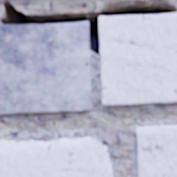brick: (0, 22, 91, 114), (99, 14, 176, 104), (0, 137, 112, 176), (136, 125, 176, 176)
crack: (0, 0, 176, 54)
